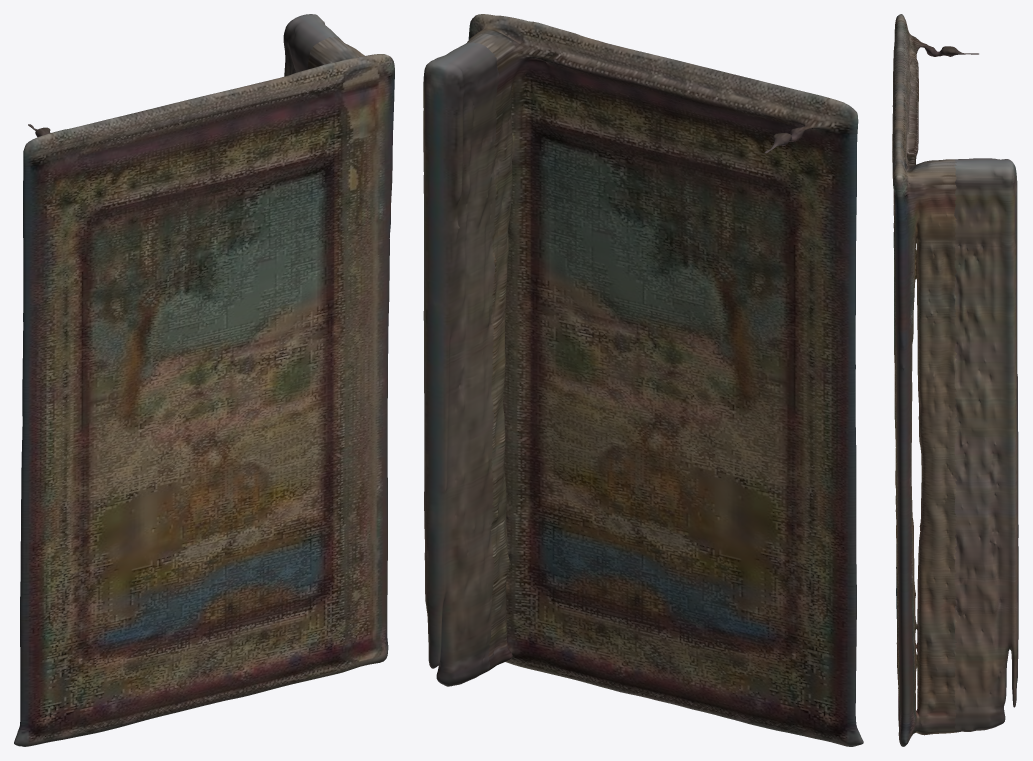
Rendered from kfl-2257.glb.
The picture shows the model from 3 angles, left to right: view 1: azimuth 30°, elevation 25°; view 2: azimuth 150°, elevation 25°; view 3: azimuth 270°, elevation 25°; orthographic projection. The views are drawn at different scales.
Visible parts, largest first — view 1: geometry_0; view 2: geometry_0; view 3: geometry_0.
Boxes of the visible parts, box(x1,y1,x2,y2) form: geometry_0: box(14, 14, 394, 746); geometry_0: box(423, 14, 863, 746); geometry_0: box(892, 14, 1018, 746).
Bounding box in the file's own units: 0.6375 × 0.9917 × 0.1965.
Materials: 1 (1 with a texture image).
